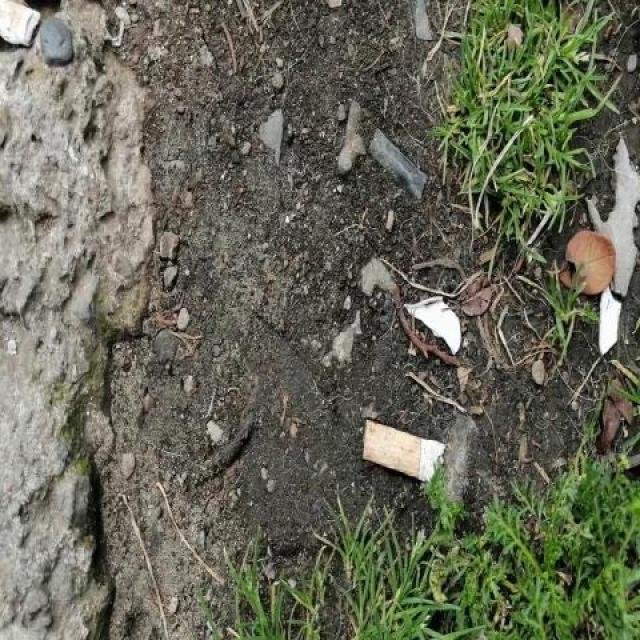non-organic waste: (360, 414, 448, 493)
